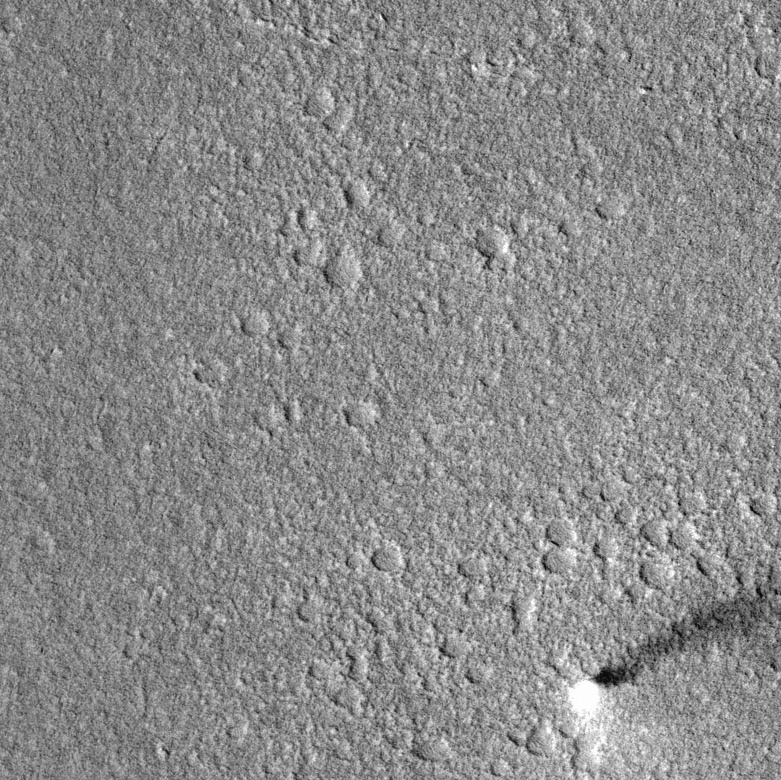dust_devil: (564, 582, 771, 724)
